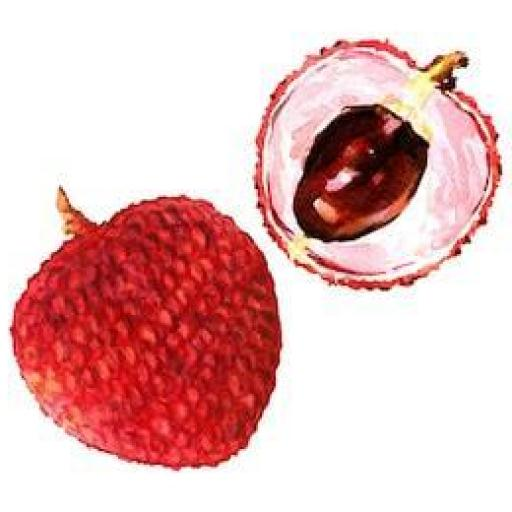lychee: (11, 192, 278, 468), (256, 42, 499, 287)
